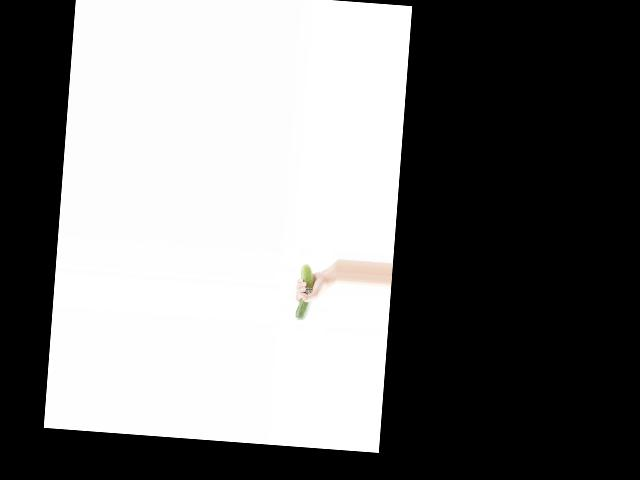cucumber: (294, 264, 315, 320)
